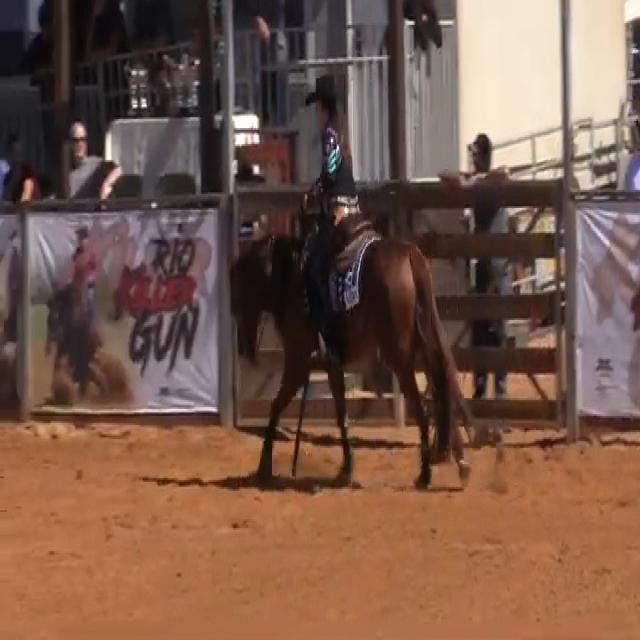horse: (227, 217, 478, 491)
